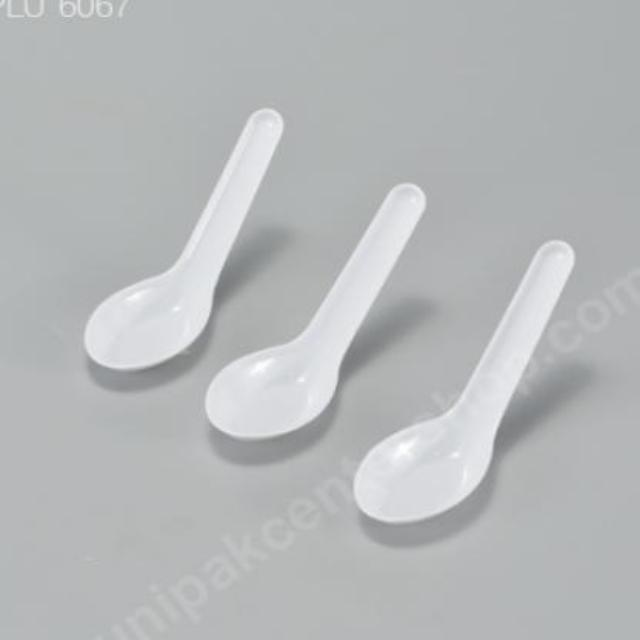plastic_cultery: (80, 111, 576, 527)
